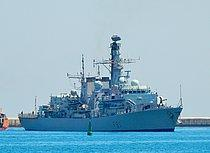MIL_Ship: (17, 32, 183, 133)
